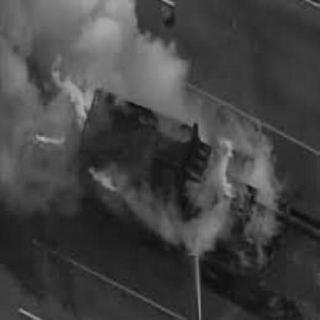Smoke: (1, 60, 70, 211)
